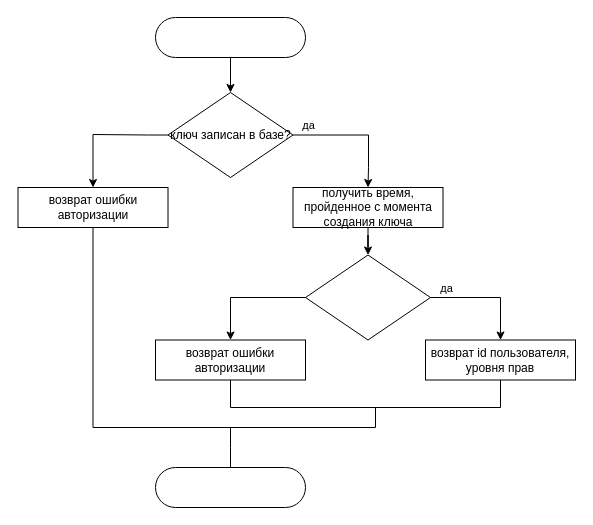
Image size: 593x525. Some labels were removed from this diagram. The box of each missing label's shape, as (x1, y1, x2, y2) in pixels:
конец: (154, 466, 306, 508)
начало: (154, 16, 306, 58)
прошло больше 24 часов?: (304, 254, 430, 340)
